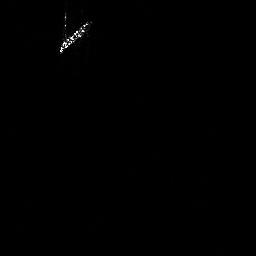ship: (56, 16, 95, 56)
